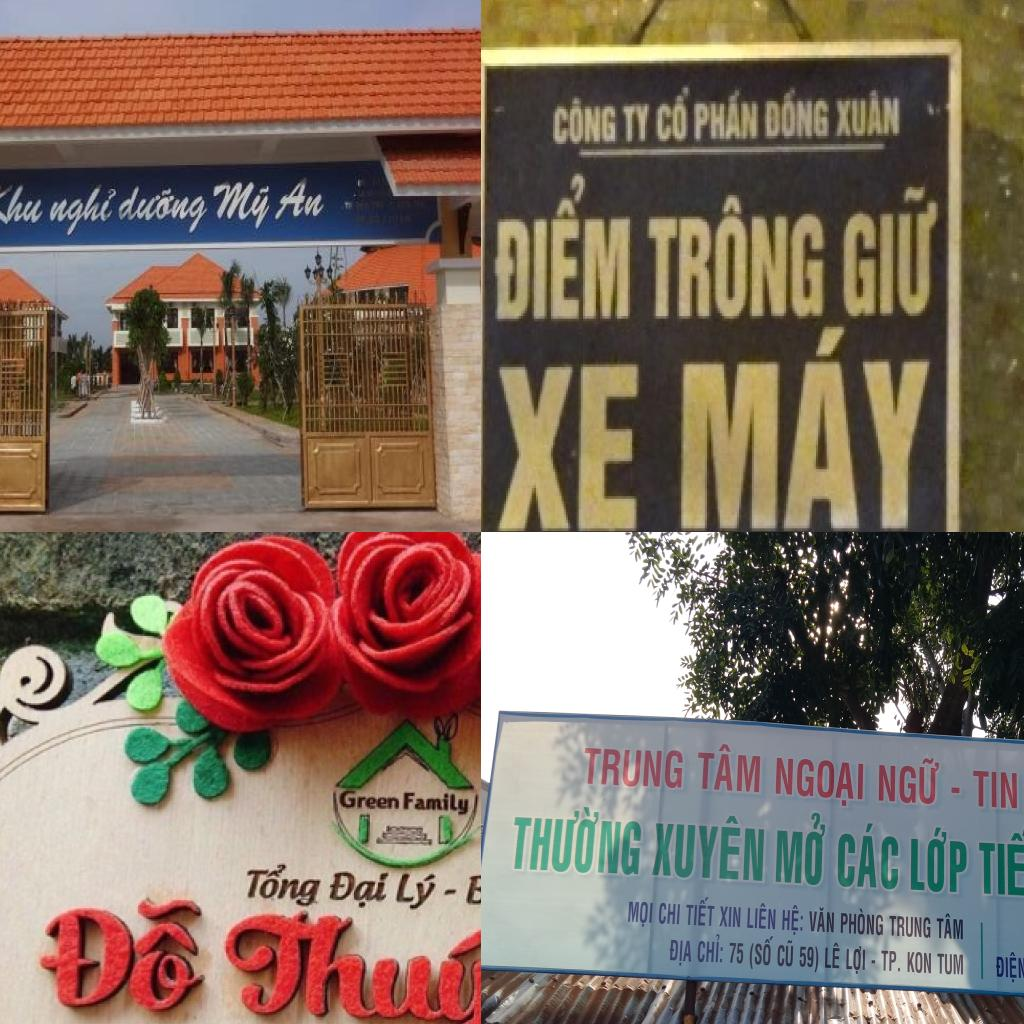text: (672, 324, 942, 532), (216, 901, 481, 1024), (493, 356, 645, 532), (645, 192, 831, 327), (36, 882, 208, 1024), (494, 174, 636, 330), (833, 182, 942, 324), (504, 801, 644, 881), (648, 806, 769, 889), (770, 746, 868, 813), (581, 739, 687, 794), (115, 182, 210, 238), (835, 818, 902, 894), (908, 824, 972, 901), (773, 806, 829, 891), (48, 185, 120, 242), (546, 96, 622, 150), (692, 90, 763, 147), (696, 742, 767, 798), (975, 821, 1024, 902), (763, 88, 833, 144), (242, 860, 327, 906), (833, 90, 904, 144), (874, 756, 944, 808), (212, 178, 276, 234), (273, 170, 333, 222), (327, 868, 392, 911), (654, 85, 696, 149), (971, 763, 1020, 812), (0, 180, 50, 228), (392, 870, 444, 910), (400, 793, 472, 820), (622, 101, 654, 149), (840, 907, 885, 938), (890, 912, 932, 940), (694, 931, 726, 966), (747, 932, 775, 972), (992, 950, 1024, 985), (338, 792, 400, 810), (684, 894, 716, 928), (745, 902, 777, 932), (625, 897, 654, 930), (780, 901, 805, 938), (934, 911, 964, 941), (666, 938, 694, 968), (905, 948, 933, 978), (808, 906, 835, 936), (461, 871, 481, 911), (936, 950, 964, 978), (843, 945, 868, 976), (718, 900, 742, 930), (774, 938, 797, 969), (798, 944, 820, 974), (657, 902, 682, 928), (822, 941, 843, 970), (879, 948, 897, 972), (728, 941, 745, 964), (897, 966, 901, 973)
